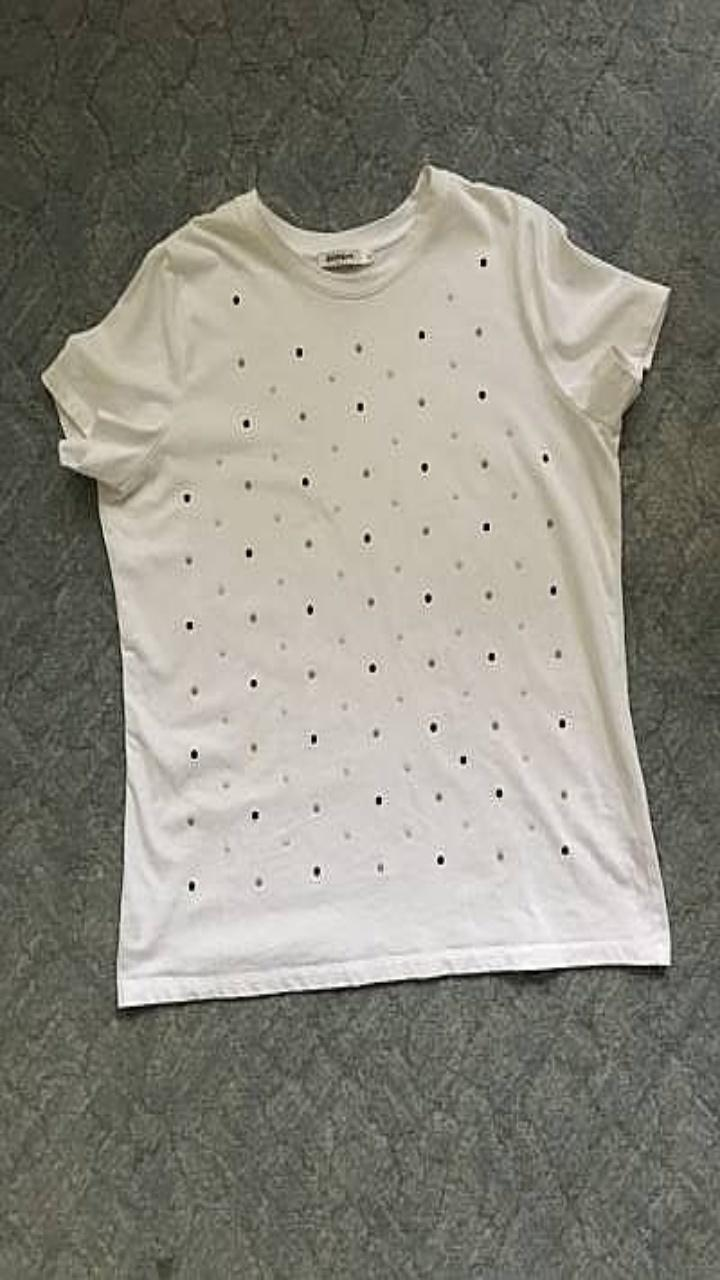T-Shirt: (40, 163, 669, 1006)
